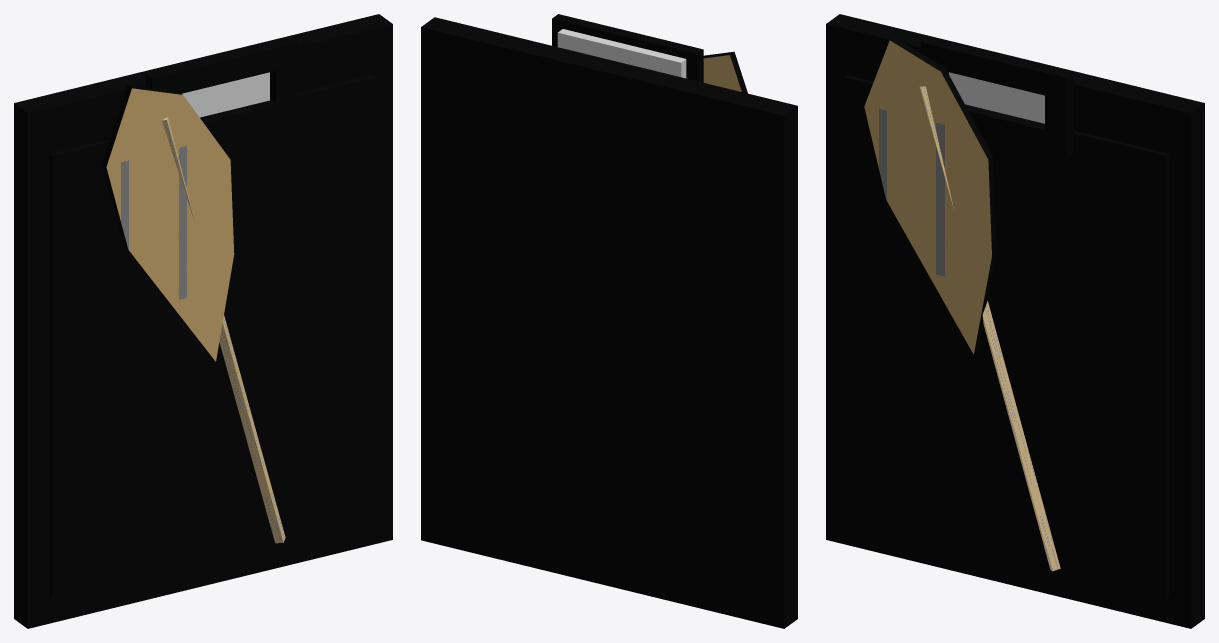
The model's file is create_clipboard_2.obj.
The picture shows the model from 3 angles, left to right: view 1: azimuth 30°, elevation 25°; view 2: azimuth 150°, elevation 25°; view 3: azimuth 330°, elevation 25°; orthographic projection.
Parts seen in each view (by area): view 1: page, wood_board, quill, spring_clip; view 2: wood_board, spring_clip, quill; view 3: page, wood_board, quill, spring_clip.
Part boxes in pixels (<box>): page: <box>49,75,374,598</box>; wood_board: <box>14,14,392,628</box>; quill: <box>102,85,285,543</box>; spring_clip: <box>145,38,297,141</box>; wood_board: <box>421,17,797,628</box>; spring_clip: <box>552,14,703,82</box>; quill: <box>703,51,747,93</box>; page: <box>844,75,1169,598</box>; wood_board: <box>826,14,1204,628</box>; quill: <box>864,37,1060,571</box>; spring_clip: <box>921,38,1073,158</box>.
Size of the model in its own units: 0.625 by 0.875 by 0.1062.
